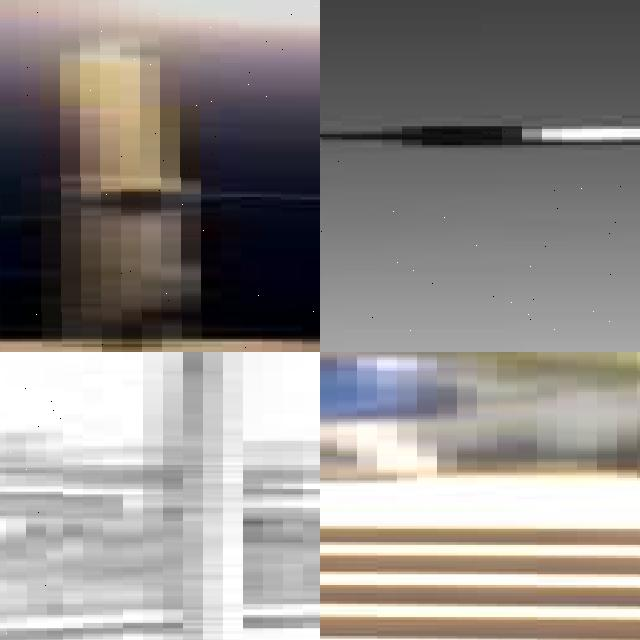street light: (0, 0, 320, 352), (0, 352, 320, 640), (320, 126, 640, 352), (163, 352, 320, 640)
